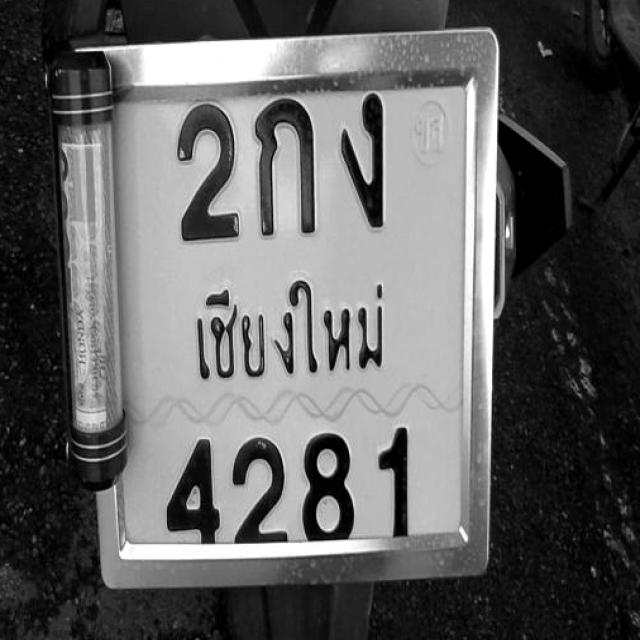letters: (158, 88, 250, 263), (254, 92, 327, 245), (345, 89, 407, 231), (357, 430, 429, 550), (156, 436, 226, 556), (224, 430, 291, 553), (293, 432, 354, 554)
license-plate: (82, 45, 492, 574)
province: (182, 282, 422, 380)
